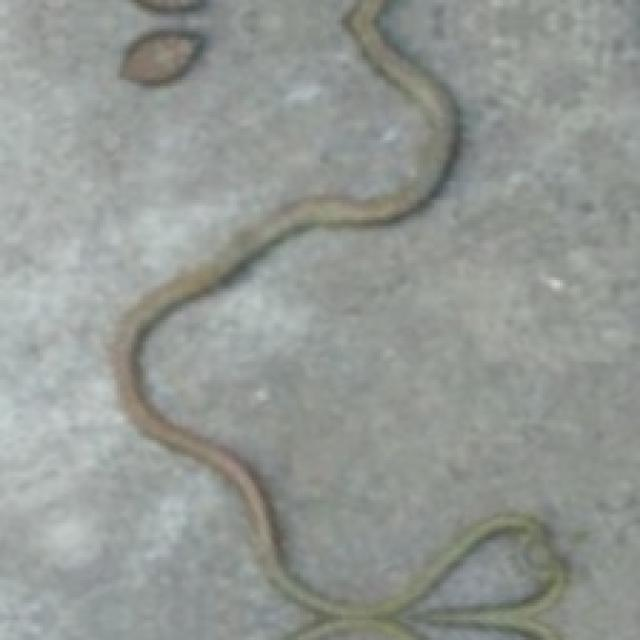paradise tree snake: (111, 0, 566, 637)
